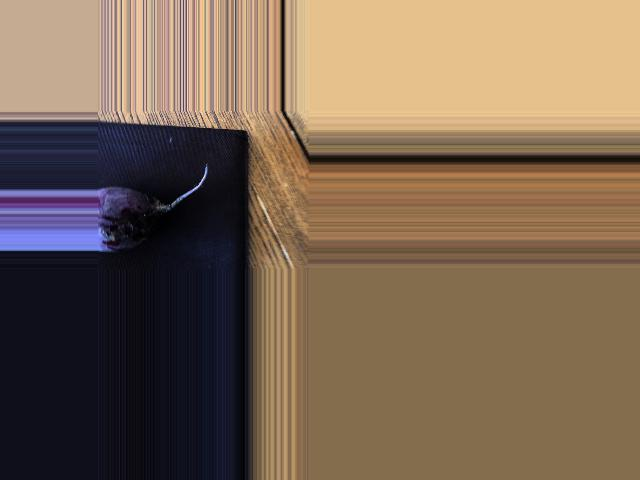beet: (98, 164, 208, 252)
